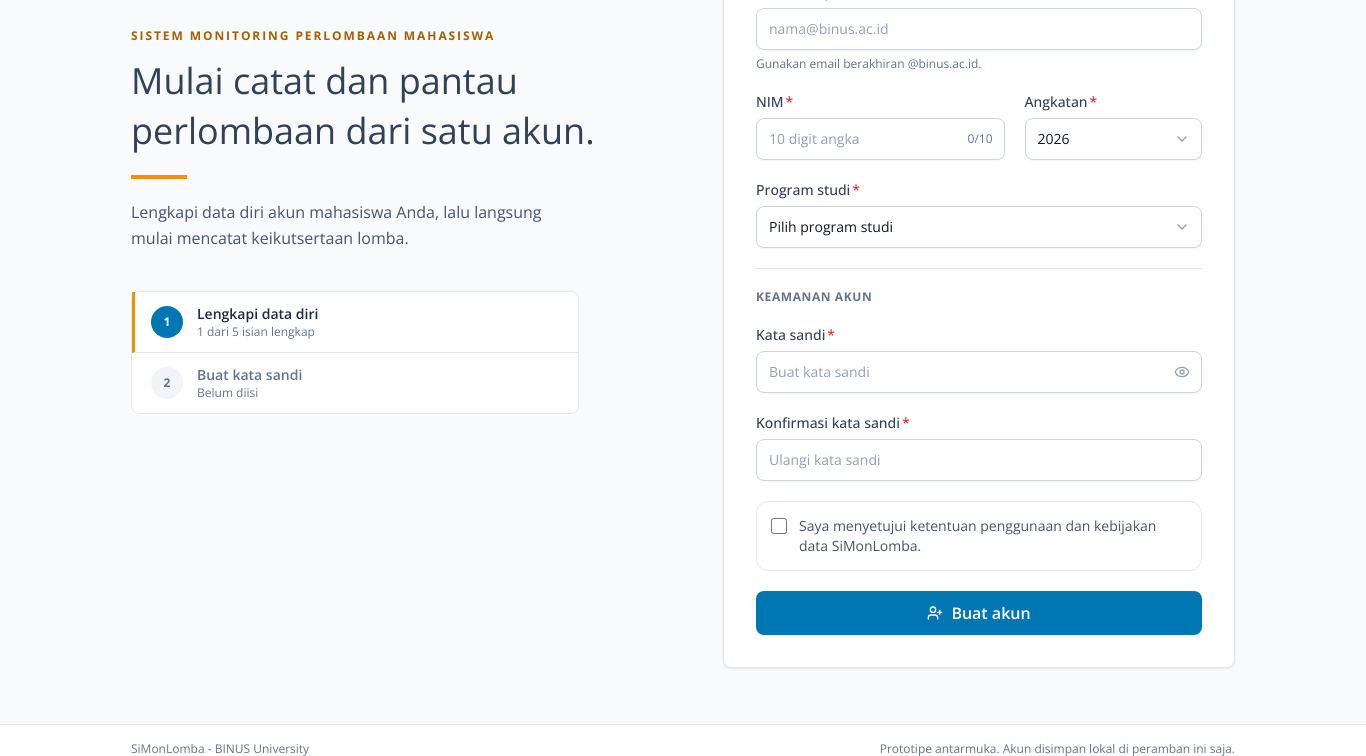
Scenario: Halaman daftar › menampilkan progres langkah di panel kiri
(page scrolled)
Expected: the text "1 dari 5 isian lengkap" is shown, x1=197 y1=324 x2=318 y2=340
Type "Rahasia123" into the password field labelled "Kata sandi*". click: (979, 372)
box: x1=756 y1=351 x2=1202 y2=393
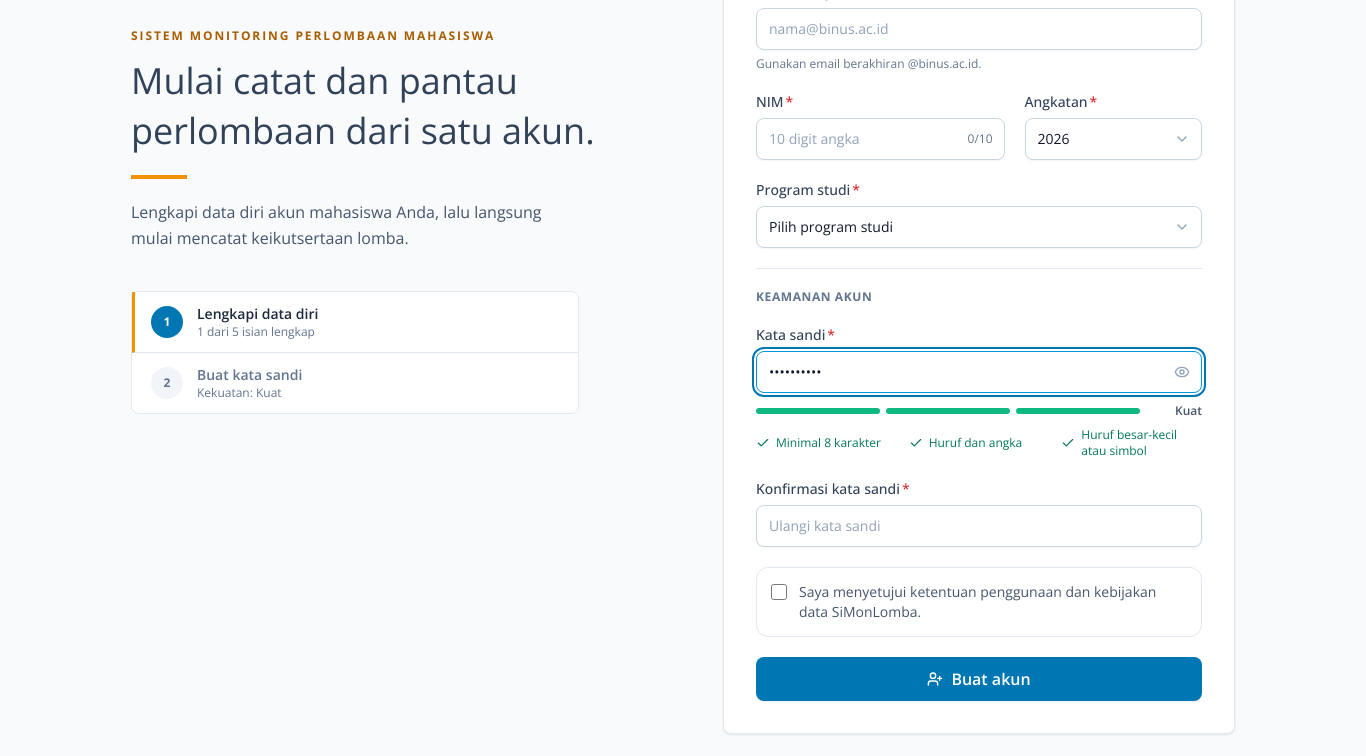
Expected: the text "Kekuatan: Kuat" is shown, x1=197 y1=384 x2=282 y2=401
